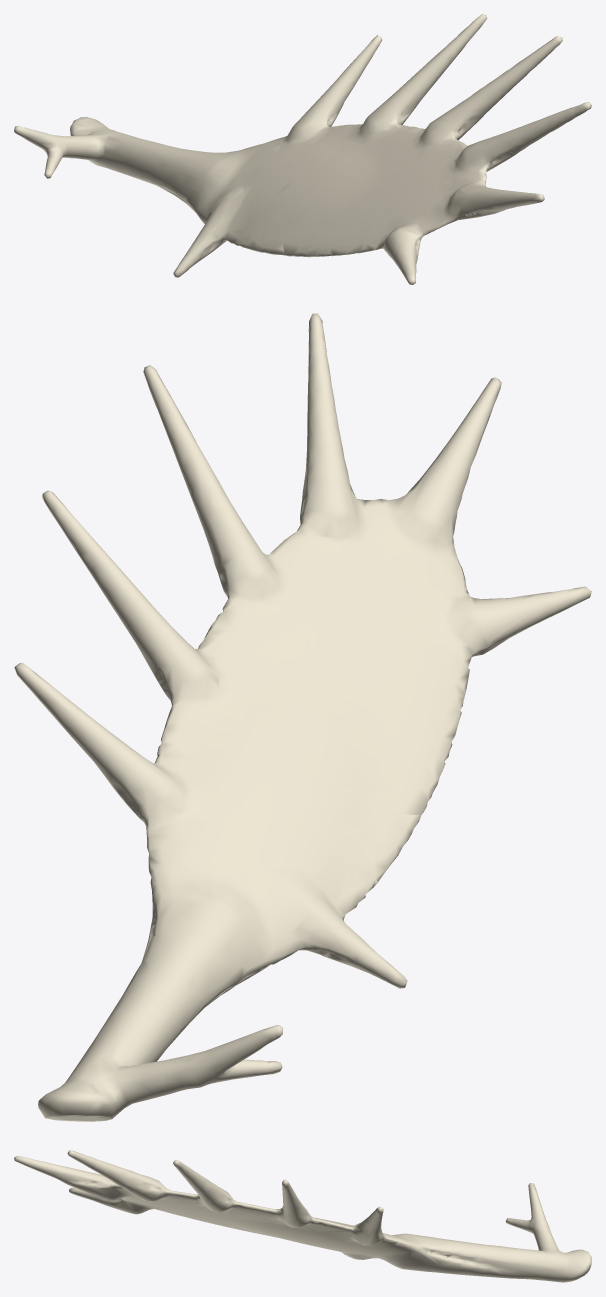
Rendered from antler_l.glb.
The picture shows the model from 3 angles, top to bottom: view 1: azimuth 30°, elevation 25°; view 2: azimuth 150°, elevation 25°; view 3: azimuth 270°, elevation 25°; orthographic projection. The views are drawn at different scales.
Parts seen in each view (by area): view 1: geometry_0; view 2: geometry_0; view 3: geometry_0.
Boxes of the visible parts, bbox=[...] form: geometry_0: bbox=[14, 14, 591, 284]; geometry_0: bbox=[14, 313, 591, 1121]; geometry_0: bbox=[14, 1150, 591, 1282].
Size of the model in its own units: 1.23 by 0.953 by 2.5.
